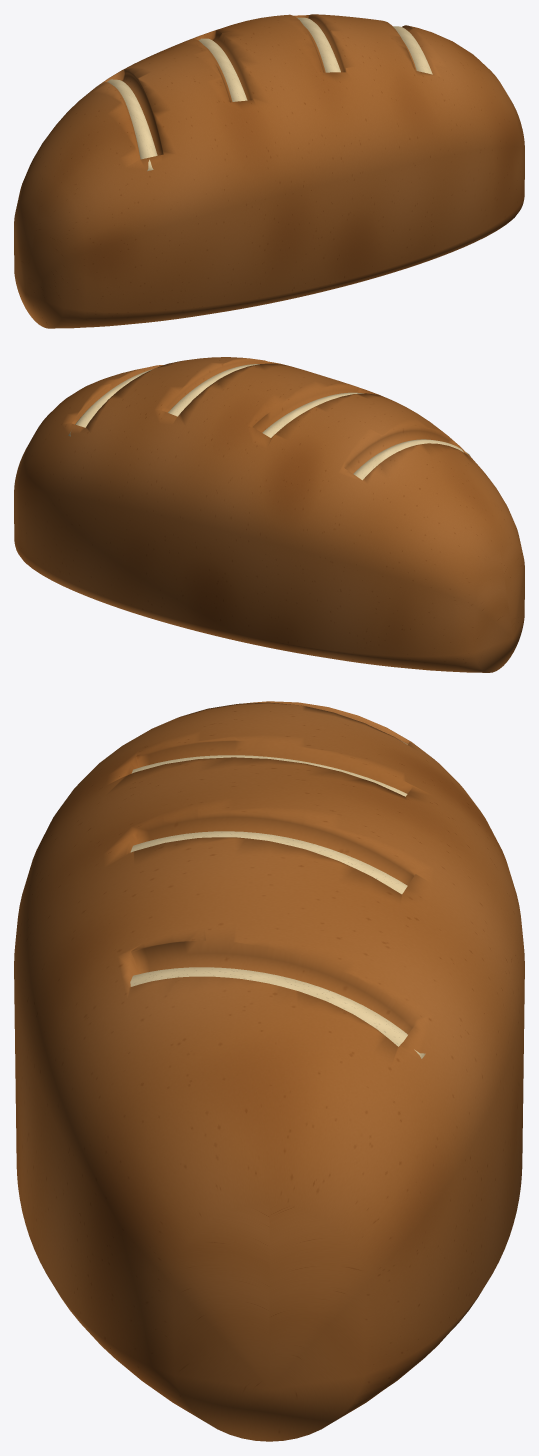
The model's file is bread-loaf-v7.glb.
The picture shows the model from 3 angles, top to bottom: view 1: azimuth 30°, elevation 25°; view 2: azimuth 150°, elevation 25°; view 3: azimuth 270°, elevation 25°; orthographic projection. The views are drawn at different scales.
Visible parts, largest first — view 1: Rounded scored bread crust, Exposed scored crumb 1, Exposed scored crumb 2, Exposed scored crumb 3, Exposed scored crumb 4; view 2: Rounded scored bread crust, Exposed scored crumb 1, Exposed scored crumb 2, Exposed scored crumb 3, Exposed scored crumb 4; view 3: Rounded scored bread crust, Exposed scored crumb 4, Exposed scored crumb 3, Exposed scored crumb 2.
Part boxes in pixels (x1=…): Rounded scored bread crust: x1=14, y1=14, x2=524, y2=328; Exposed scored crumb 1: x1=107, y1=79, x2=157, y2=171; Exposed scored crumb 2: x1=198, y1=38, x2=247, y2=101; Exposed scored crumb 3: x1=297, y1=17, x2=340, y2=72; Exposed scored crumb 4: x1=393, y1=26, x2=432, y2=74; Rounded scored bread crust: x1=14, y1=357, x2=524, y2=672; Exposed scored crumb 1: x1=353, y1=439, x2=470, y2=480; Exposed scored crumb 2: x1=262, y1=392, x2=363, y2=437; Exposed scored crumb 3: x1=168, y1=364, x2=259, y2=416; Exposed scored crumb 4: x1=68, y1=369, x2=152, y2=436; Rounded scored bread crust: x1=14, y1=701, x2=524, y2=1441; Exposed scored crumb 4: x1=130, y1=967, x2=425, y2=1058; Exposed scored crumb 3: x1=130, y1=831, x2=407, y2=894; Exposed scored crumb 2: x1=131, y1=755, x2=407, y2=796.
Bounding box in the file's own units: 0.24 × 0.1096 × 0.114.
Materials: 2 (2 with a texture image).
